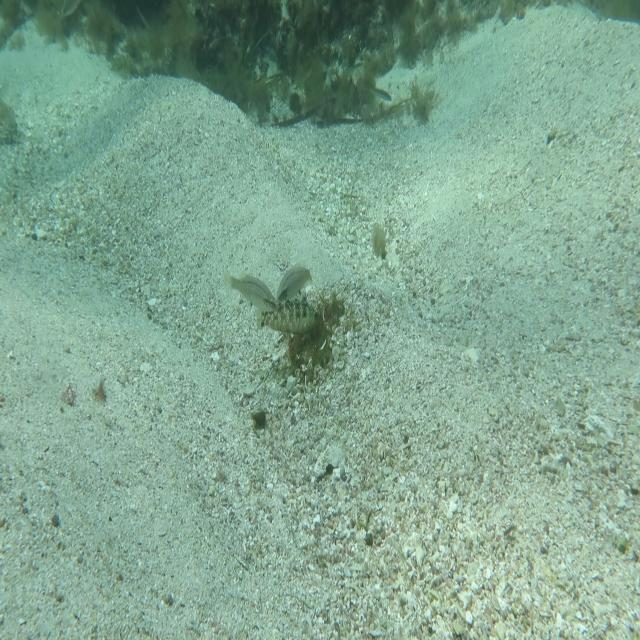NIP_CORE: (252, 288, 325, 338)
female: (225, 264, 279, 314), (275, 260, 316, 307)
nest: (280, 282, 349, 374)
vegetation: (83, 0, 450, 44), (216, 45, 434, 101), (369, 212, 390, 264)
